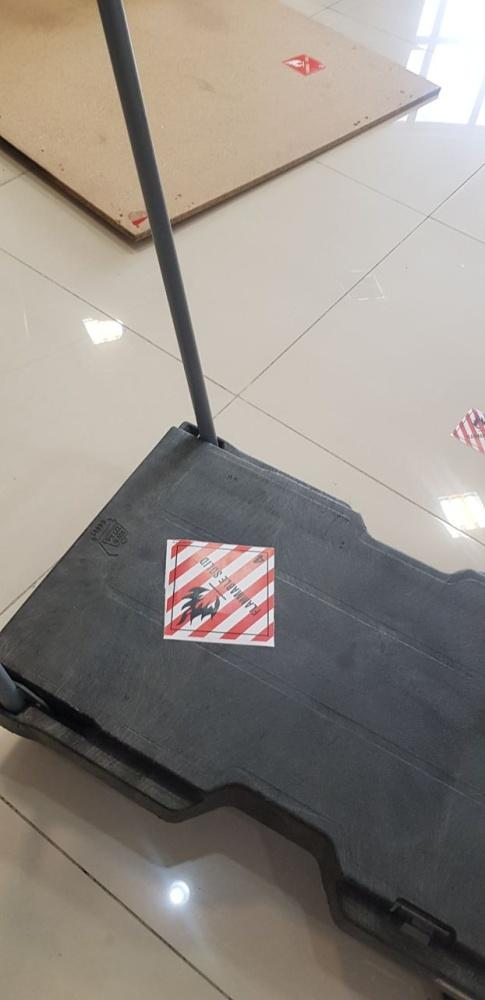flammable-solid: (161, 534, 275, 648)
